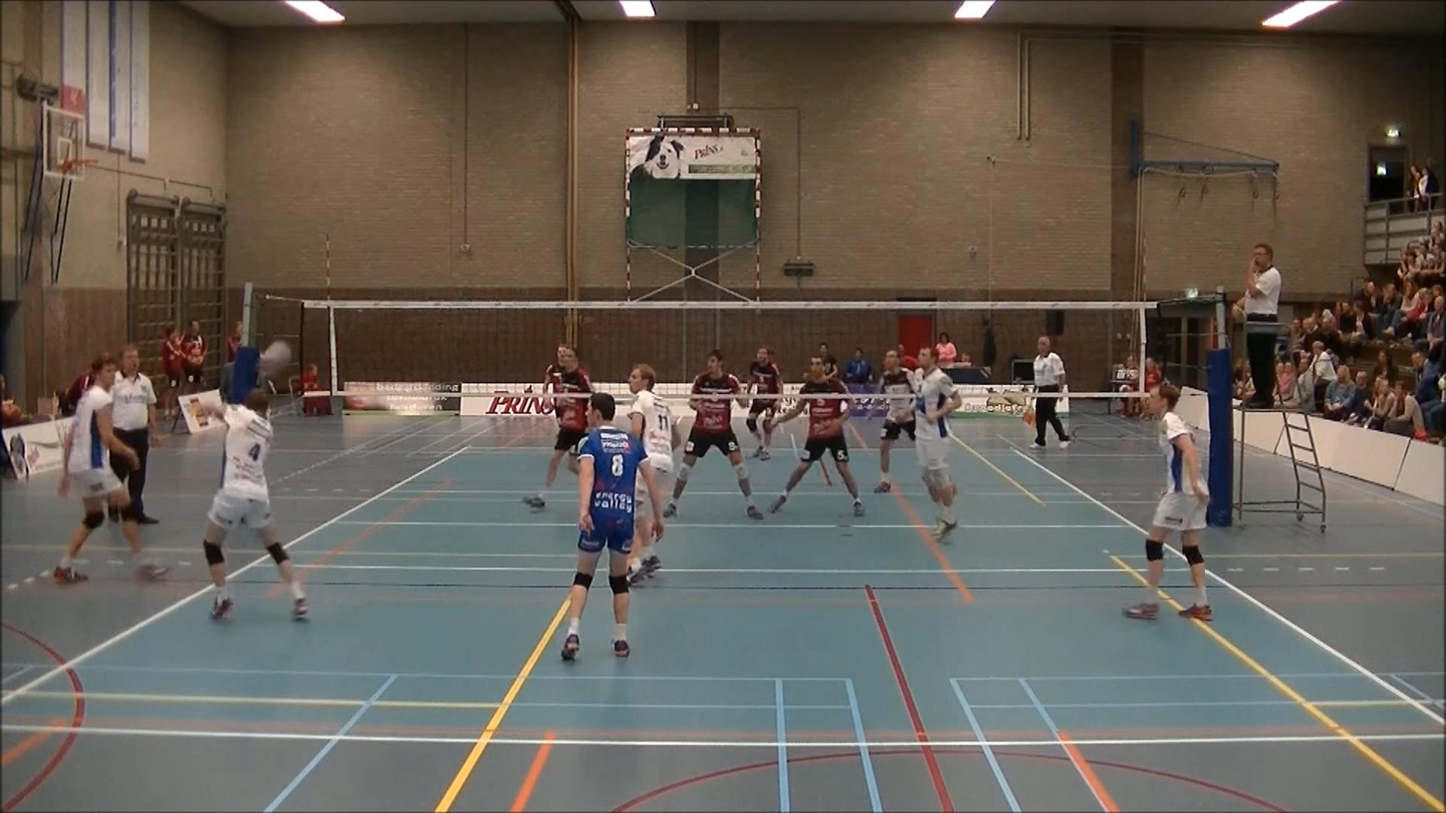ricezione: (177, 386, 315, 629)
